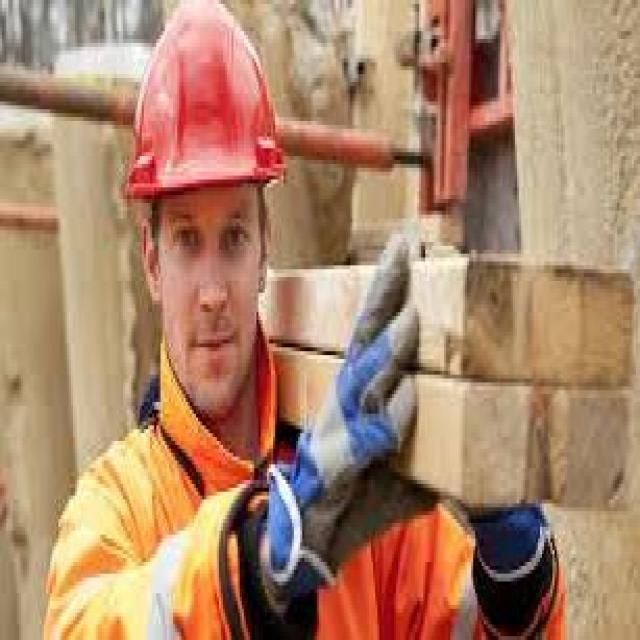Reflective-Jacket: (46, 386, 500, 640)
Safety-Helmet: (119, 4, 296, 215)
